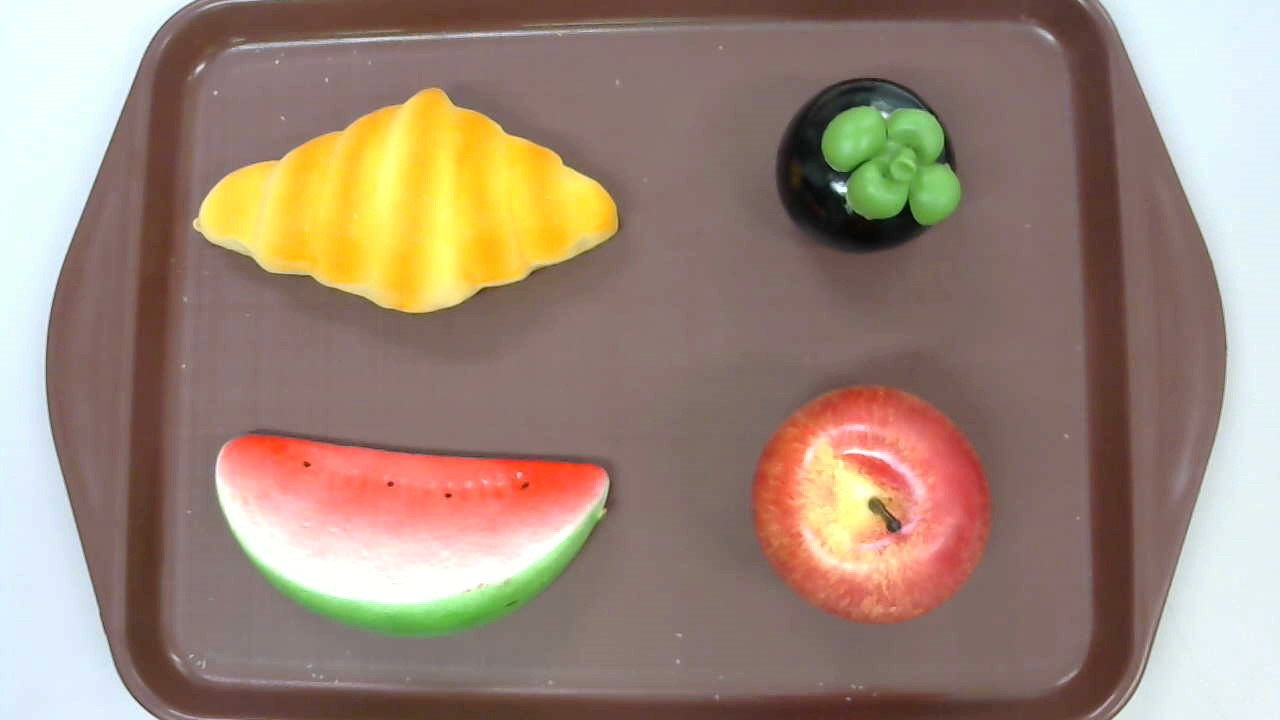croissant: (192, 87, 621, 316)
mangosteen: (775, 78, 962, 253)
red apple: (751, 384, 992, 628)
water melon: (215, 433, 610, 634)
